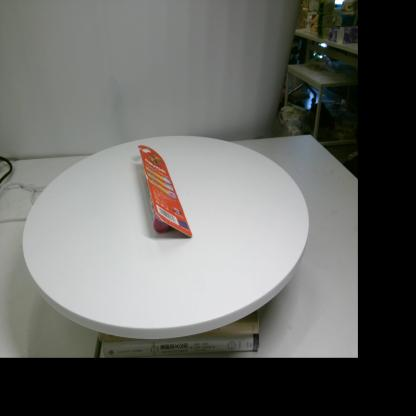Personal Hygiene: (138, 145, 192, 238)
